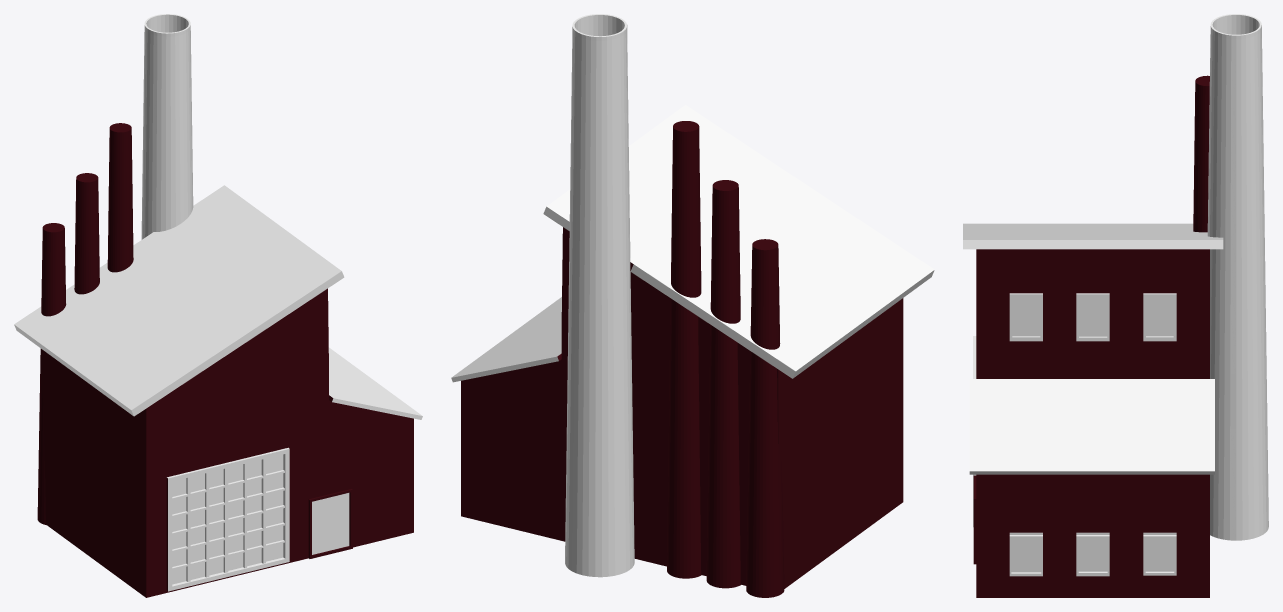
Rendered from factory.glb.
3 views of the same model, side by side, from view 1: azimuth 30°, elevation 25°; view 2: azimuth 150°, elevation 25°; view 3: azimuth 270°, elevation 25° (orthographic). The views are drawn at different scales.
Visible parts, largest first — view 1: Cube.194, Cube.195, Cube.197, Cube.196, Cube.198, Cube.199; view 2: Cube.194, Cube.195, Cube.199, Cube.198; view 3: Cube.194, Cube.195, Cube.198, Cube.199, Cube.197, Cube.196.
Boxes of the visible parts, x1,y1,x2,y2 form: Cube.194: [37, 123, 413, 597]; Cube.195: [14, 185, 422, 554]; Cube.197: [172, 454, 283, 584]; Cube.196: [167, 447, 289, 591]; Cube.198: [141, 18, 193, 239]; Cube.199: [141, 14, 193, 234]; Cube.194: [461, 121, 903, 597]; Cube.195: [451, 105, 934, 382]; Cube.199: [565, 14, 634, 577]; Cube.198: [565, 19, 634, 547]; Cube.194: [973, 75, 1209, 597]; Cube.195: [963, 223, 1223, 474]; Cube.198: [1208, 18, 1268, 512]; Cube.199: [1207, 14, 1268, 540]; Cube.197: [1011, 298, 1174, 572]; Cube.196: [973, 293, 1176, 576].
Bounding box in the file's own units: 6.45 × 9.52 × 5.23.
